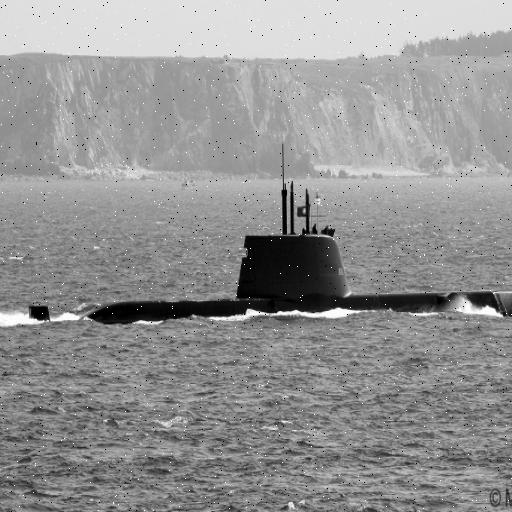submarine: (26, 178, 512, 329)
